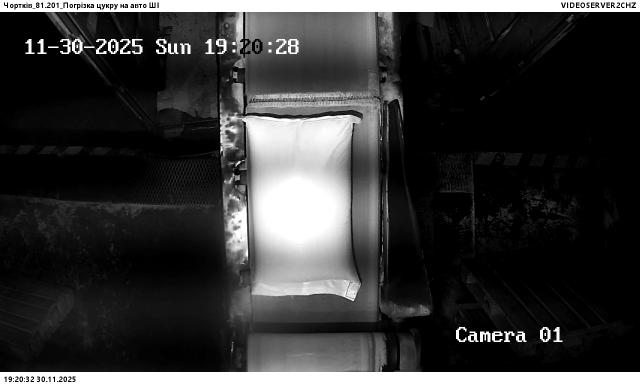bag: (242, 114, 361, 301)
